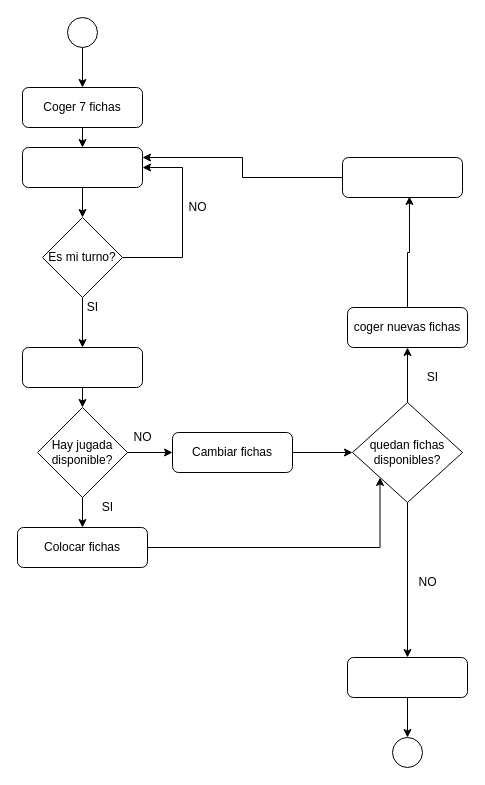
Some shapes in this 485 by 785 pixel diagram are drawn without their labels. The shapes that lost their labels are listed below. From the top down, each one's centre as x and y in pixels, then its label:
At pixel 82 167: "Esperar turno".
At pixel 402 177: "Fin de turno".
At pixel 82 367: "Decidir jugada".
At pixel 407 677: "Fin partida".
